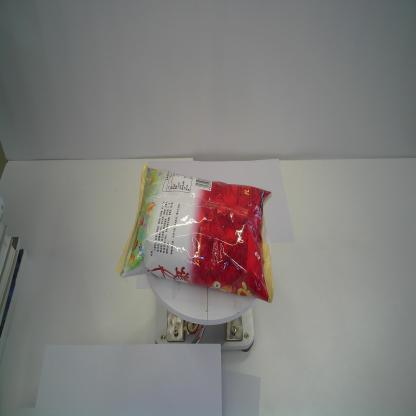Puffed Food: (114, 161, 275, 305)
